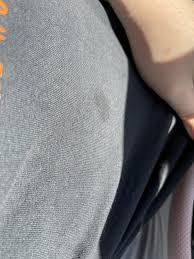mustard: (90, 94, 107, 124)
